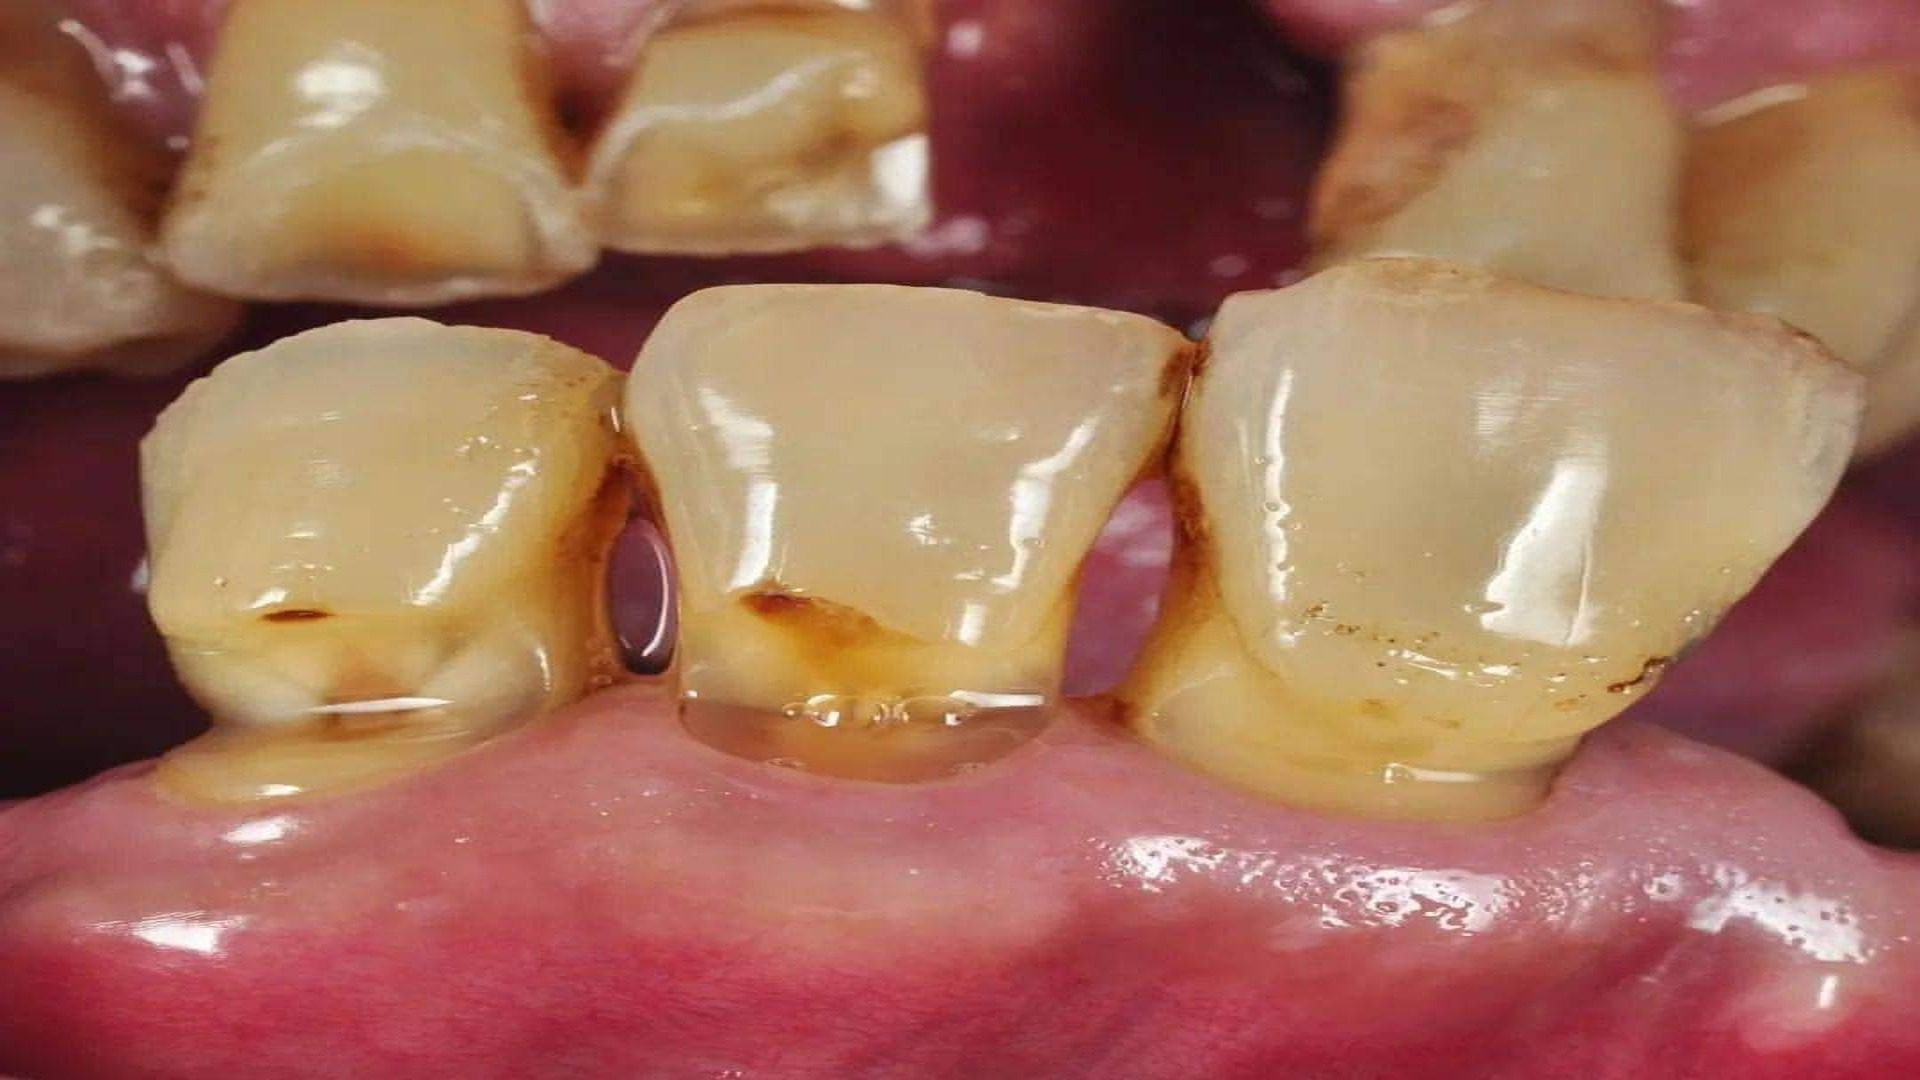tooth: (1120, 256, 1867, 823), (138, 315, 680, 803), (617, 284, 1203, 721), (154, 1, 600, 310), (578, 1, 934, 255), (1338, 75, 1687, 301)
